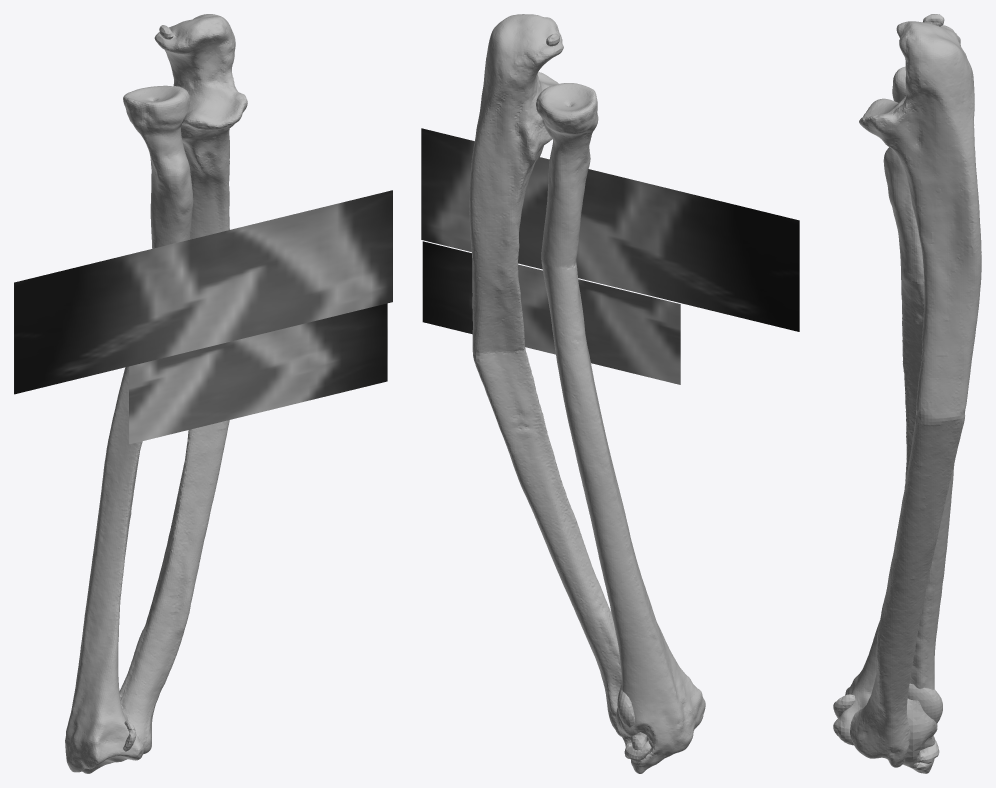
File: fractured_4bf9019c-a2a4-4e78-92c3-9ae6ef0b5f38.glb
3 renders of one model, left to right at view 1: azimuth 30°, elevation 25°; view 2: azimuth 150°, elevation 25°; view 3: azimuth 270°, elevation 25°, orthographic. The views are drawn at different scales.
Visible parts, largest first — view 1: world; view 2: world; view 3: world.
Boxes of the visible parts, x1,y1,x2,y2 form: world: (14, 14, 392, 773); world: (421, 14, 799, 773); world: (833, 14, 981, 773).
Size of the model in its own units: 0.5386 by 0.9902 by 0.1698.
Materials: 2 (2 with a texture image).
